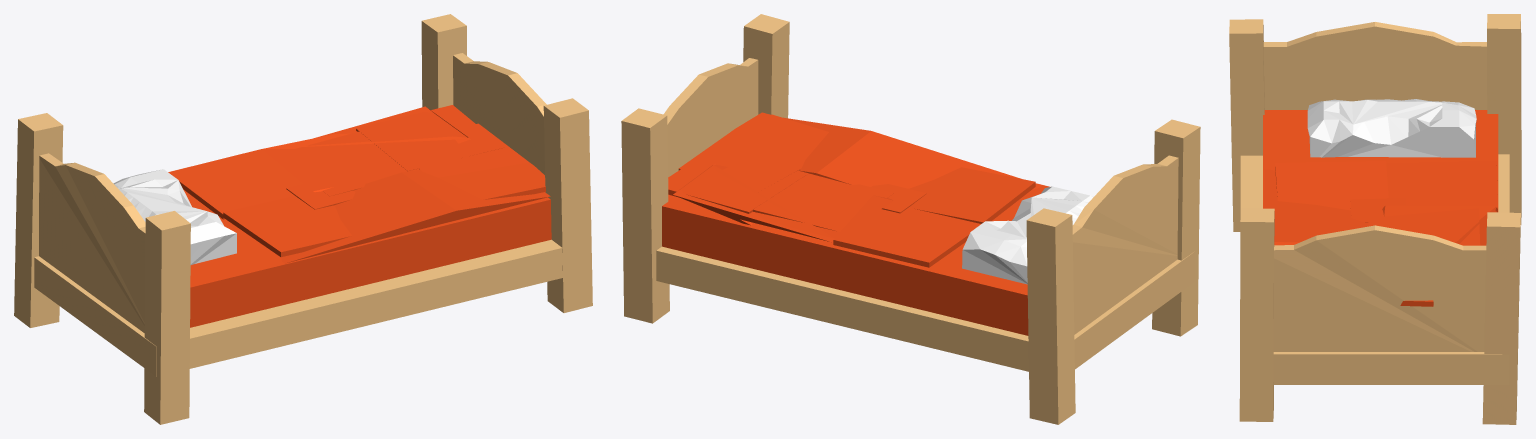
The model's file is RealBed.fbx.
3 renders of one model, left to right at view 1: azimuth 30°, elevation 25°; view 2: azimuth 150°, elevation 25°; view 3: azimuth 270°, elevation 25°, orthographic.
Visible parts, largest first — view 1: group23987091, group1841200612, group211249736, group1002262456, group109691886, group2012558372, group1536879230, group2085669942, group2115953417, group934344302, group1390802298, group1113797814 (+6 smaller); view 2: group1841200612, group23987091, group211249736, group2085669942, group1527150140, group2012558372, group1536879230, group1002262456, group2115953417, group1113797814, group934344302, group1390802298 (+6 smaller); view 3: group1536879230, group211249736, group23987091, group1113797814, group109691886, group1527150140, group1002262456, group2085669942, group2115953417, group1841200612, group934344302, group2012558372 (+3 smaller).
Boxes of the visible parts, <box> form: group23987091: <box>34,239,562,376</box>; group1841200612: <box>183,189,551,327</box>; group211249736: <box>39,153,145,332</box>; group1002262456: <box>144,211,190,424</box>; group109691886: <box>543,98,592,312</box>; group2012558372: <box>281,169,550,263</box>; group1536879230: <box>453,53,546,174</box>; group2085669942: <box>14,113,63,327</box>; group2115953417: <box>168,149,302,219</box>; group934344302: <box>223,196,351,257</box>; group1390802298: <box>356,105,504,171</box>; group1113797814: <box>113,169,236,264</box>; group1841200612: <box>662,183,1049,335</box>; group23987091: <box>656,246,1194,371</box>; group211249736: <box>1072,155,1178,334</box>; group2085669942: <box>1026,208,1075,424</box>; group1527150140: <box>621,108,669,323</box>; group2012558372: <box>783,117,1041,189</box>; group1536879230: <box>663,58,758,177</box>; group1002262456: <box>1152,119,1200,336</box>; group2115953417: <box>833,207,980,267</box>; group1113797814: <box>962,186,1093,284</box>; group934344302: <box>909,167,1035,223</box>; group1390802298: <box>668,148,806,213</box>; group1536879230: <box>1273,225,1486,351</box>; group211249736: <box>1263,22,1487,109</box>; group23987091: <box>1240,154,1509,384</box>; group1113797814: <box>1307,99,1476,157</box>; group109691886: <box>1239,208,1274,421</box>; group1527150140: <box>1482,212,1520,424</box>; group1002262456: <box>1229,19,1264,231</box>; group2085669942: <box>1487,14,1521,224</box>; group2115953417: <box>1386,160,1497,212</box>; group1841200612: <box>1263,110,1498,211</box>; group934344302: <box>1275,161,1388,210</box>; group2012558372: <box>1263,169,1368,245</box>.
Size of the model in its own units: 131 by 58.95 by 74.86.
